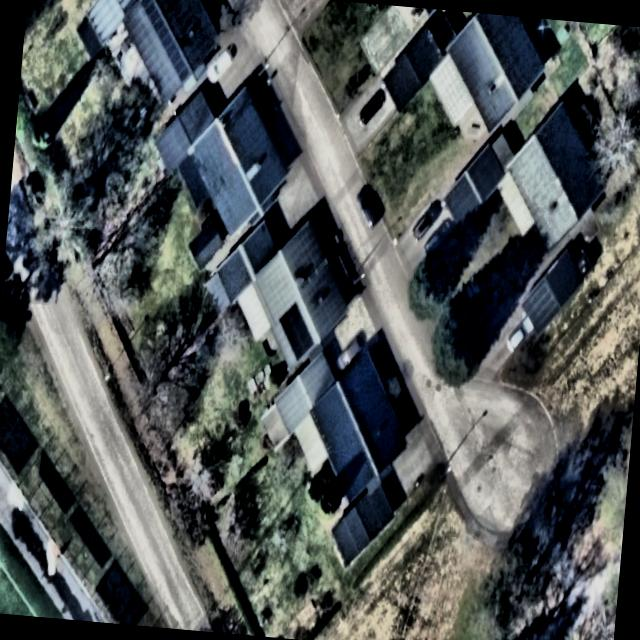roof_pv: (276, 299, 318, 362)
